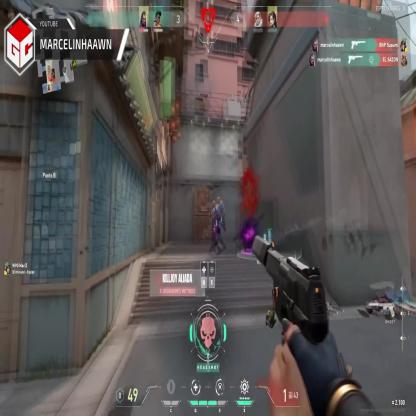enemy: (211, 198, 225, 256)
enemy_head: (211, 200, 216, 209)
